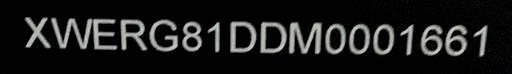letter: (52, 15, 92, 49), (290, 20, 324, 56), (19, 13, 51, 49), (258, 18, 288, 55), (226, 19, 256, 55), (150, 18, 180, 50), (120, 18, 148, 49), (469, 21, 493, 56), (418, 21, 442, 55), (348, 21, 372, 55), (444, 22, 468, 56), (94, 16, 118, 49), (396, 20, 418, 54), (373, 22, 395, 54), (326, 20, 346, 54), (182, 20, 206, 48), (206, 20, 224, 54)
